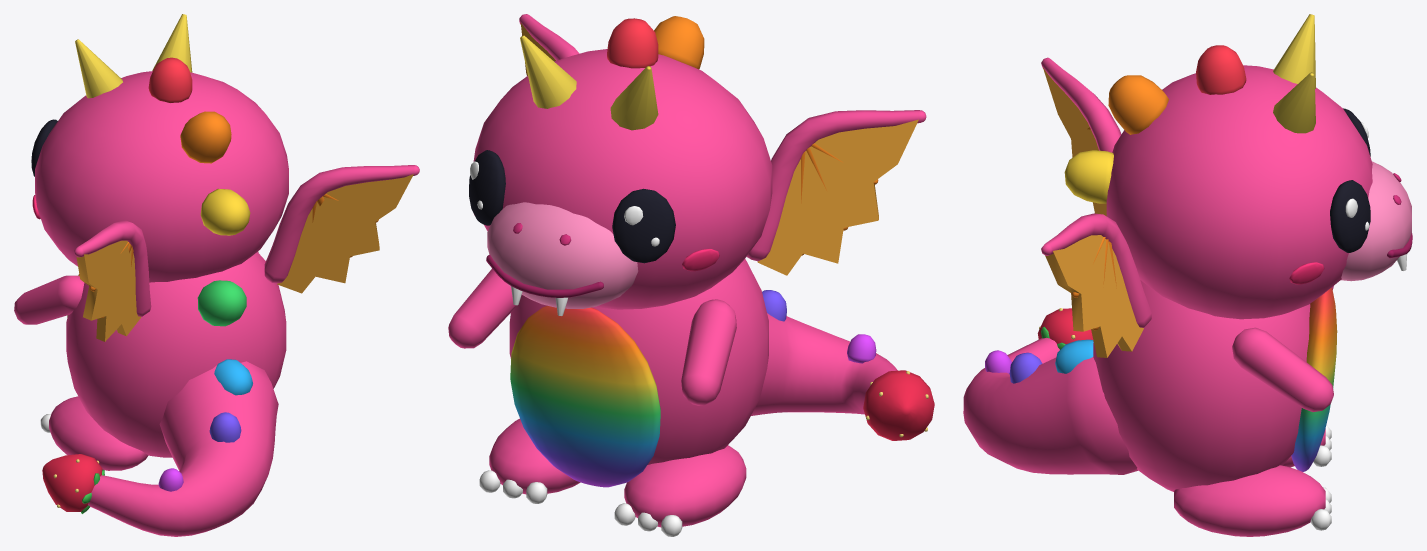
Rendered from rainbow+strawberry.glb.
3 renders of one model, left to right at view 1: azimuth 30°, elevation 25°; view 2: azimuth 150°, elevation 25°; view 3: azimuth 270°, elevation 25°, orthographic. The views are drawn at different scales.
Visible parts, largest first — view 1: rainbow+strawberry; view 2: rainbow+strawberry; view 3: rainbow+strawberry.
Part boxes in pixels (x1=…): rainbow+strawberry: x1=14, y1=14, x2=419, y2=536; rainbow+strawberry: x1=448, y1=14, x2=934, y2=536; rainbow+strawberry: x1=963, y1=14, x2=1412, y2=536.
Bounding box in the file's own units: 3.65 × 3.9 × 3.49.
Materials: 1 (1 with a texture image).
